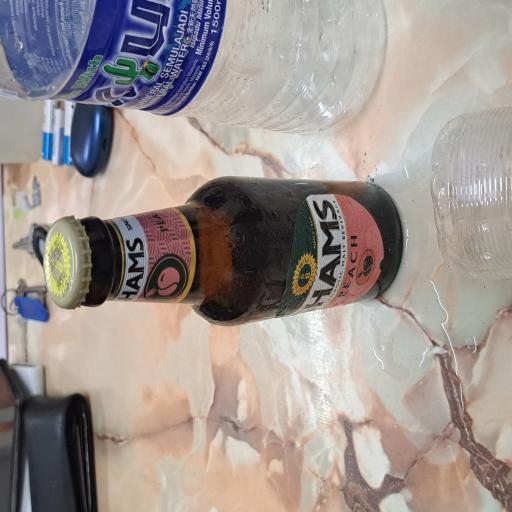glass bottle: (138, 59, 252, 512)
plastic bottle: (281, 0, 384, 512)
